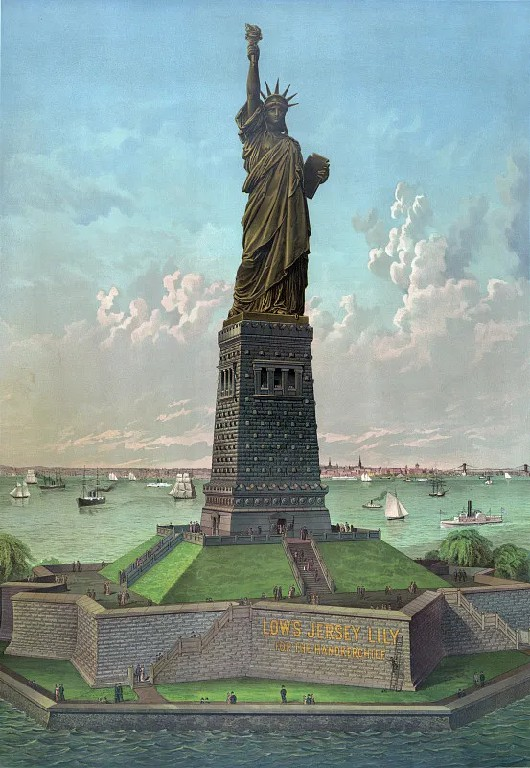SL: (198, 25, 334, 533)
